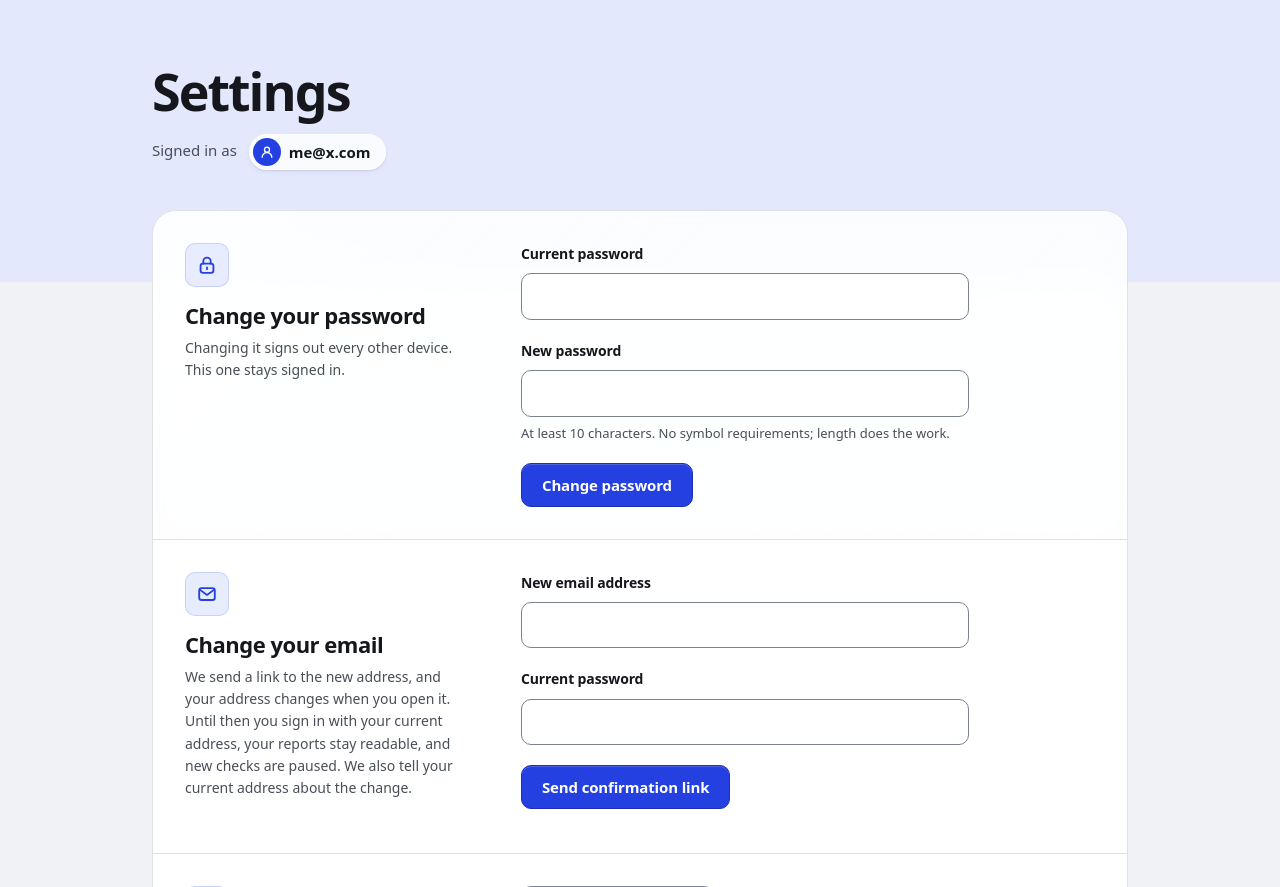
Test case: SettingsPage (FR-7.1, FR-1.9, FR-4.5, FR-4.6) › change password › validates locally with no request: an empty current and a short new password
The image size is (1280, 887).
Step 1. Type "short" into the password field labelled "New password" → [745, 394], box [521,370,969,417]
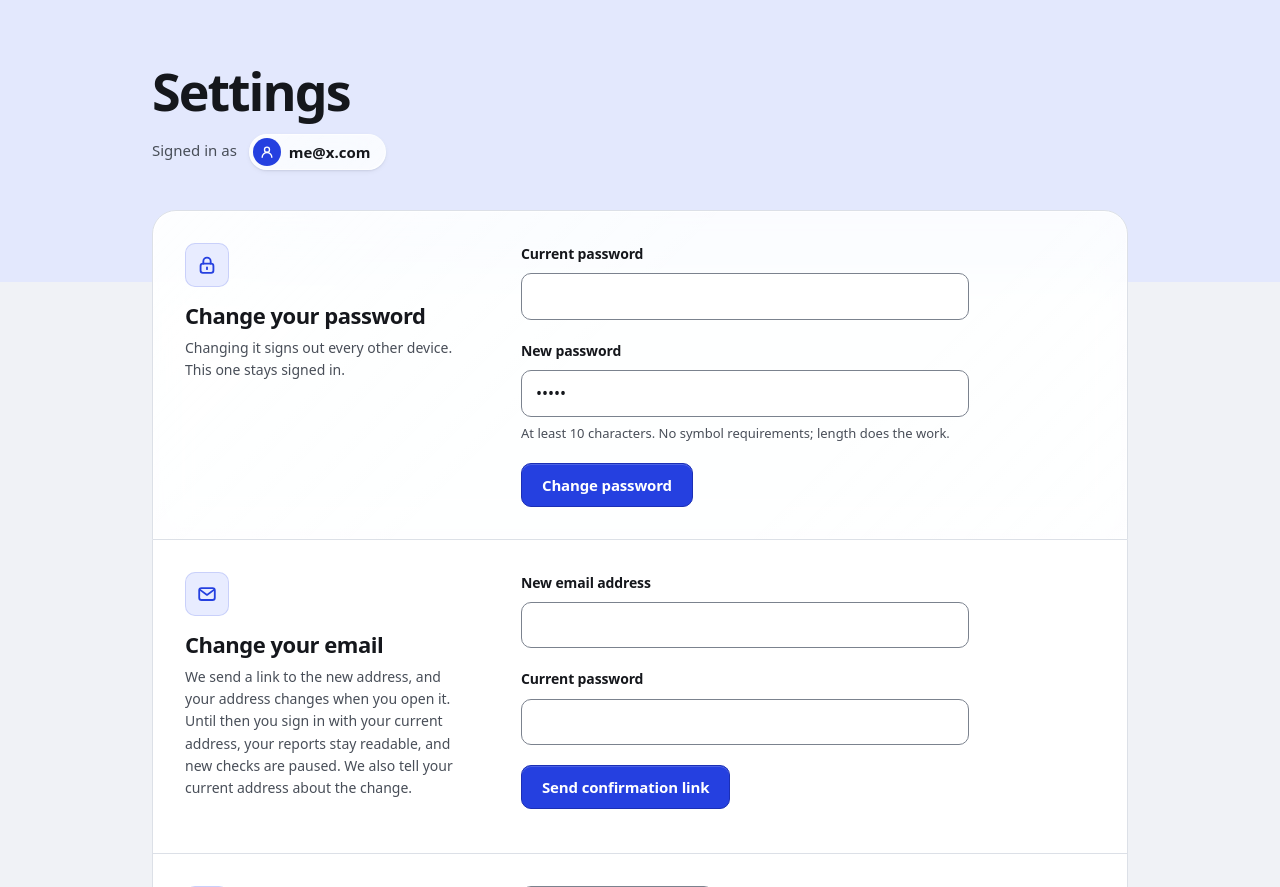
Step 2. Click the button "Change password" → [607, 485], box [521,463,693,507]
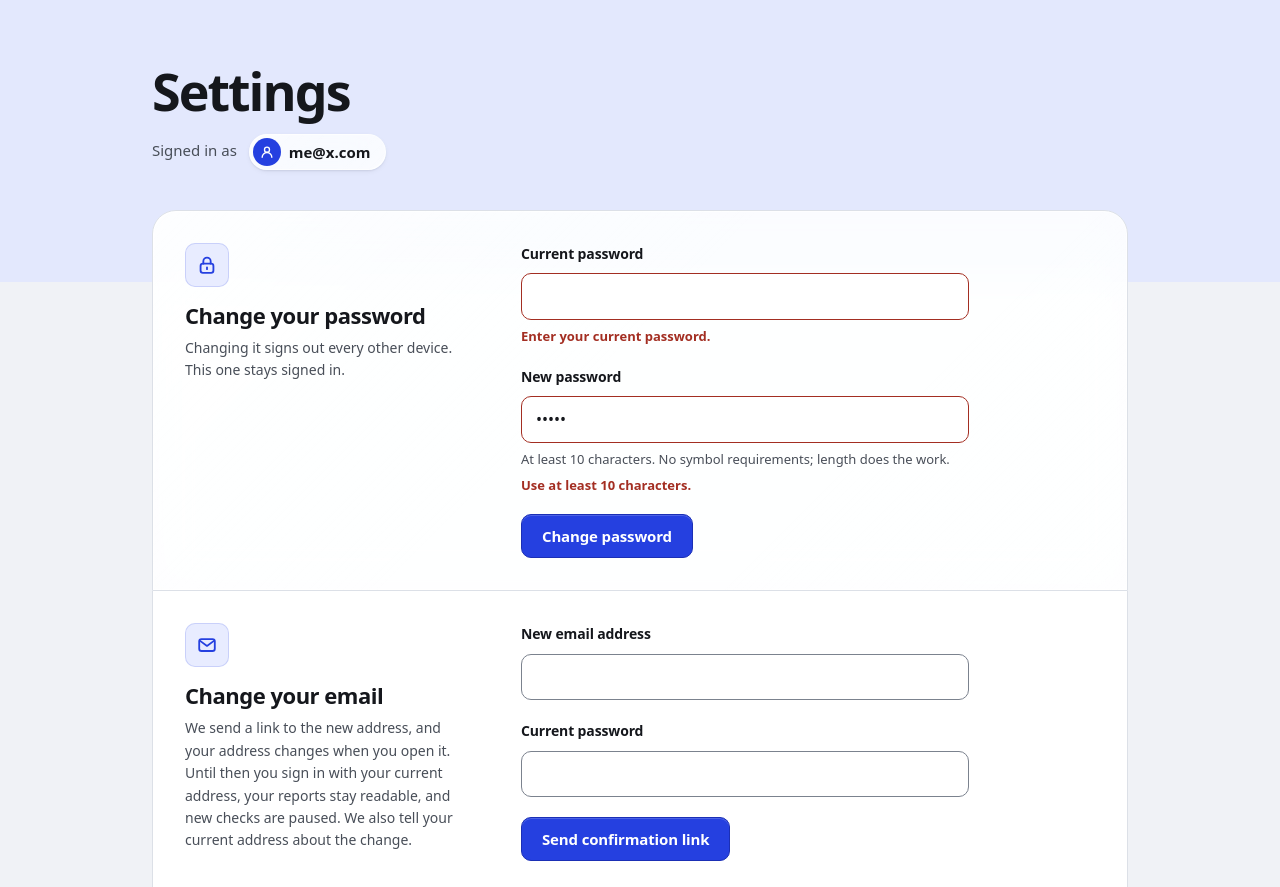
Check: the text "Enter your current password." is shown, box [521,327,710,345]
Check: the text "Use at least 10 characters." is shown, box [521,476,691,494]
